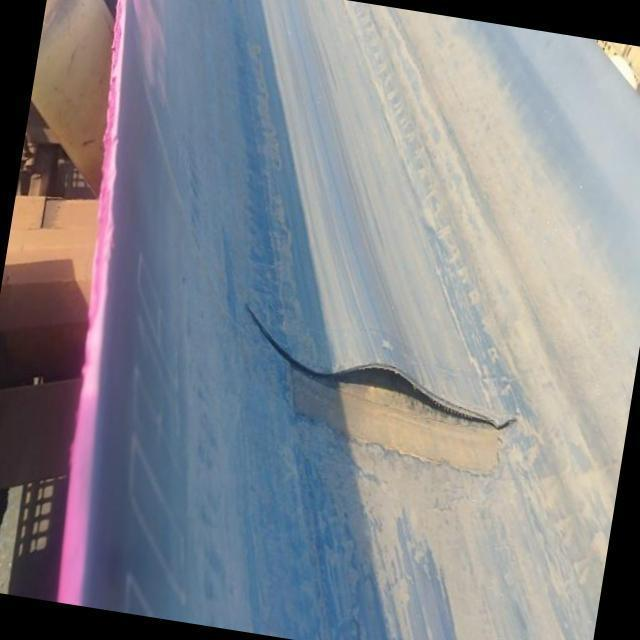Tear: (239, 300, 521, 436)
